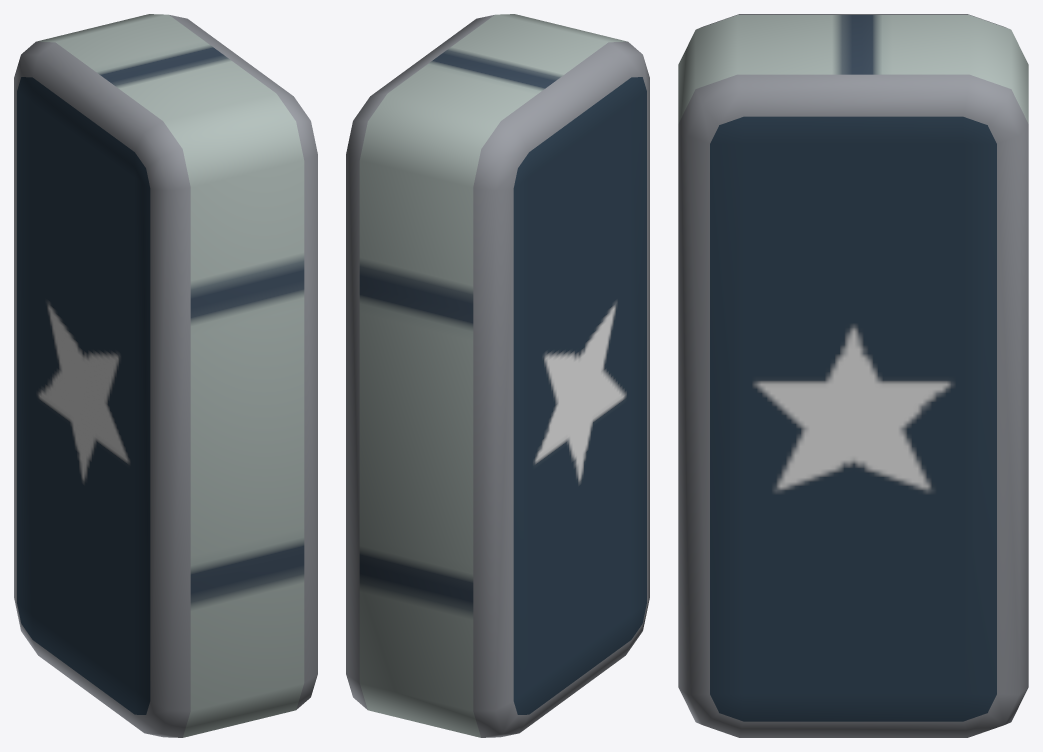
Rendered from piece_puzzle_etoile.fbx.
3 renders of one model, left to right at view 1: azimuth 30°, elevation 25°; view 2: azimuth 150°, elevation 25°; view 3: azimuth 270°, elevation 25°, orthographic. The views are drawn at different scales.
Parts seen in each view (by area): view 1: cube_a_trouver1; view 2: cube_a_trouver1; view 3: cube_a_trouver1.
Boxes of the visible parts, bbox=[...] form: cube_a_trouver1: bbox=[14, 14, 317, 737]; cube_a_trouver1: bbox=[346, 14, 649, 737]; cube_a_trouver1: bbox=[678, 14, 1028, 737].
Bounding box in the file's own units: 14.02 × 50.15 × 24.05.
1 material, 1 textured.
